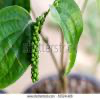Bell_pepper leaf: (0, 6, 38, 89), (49, 0, 84, 78)
